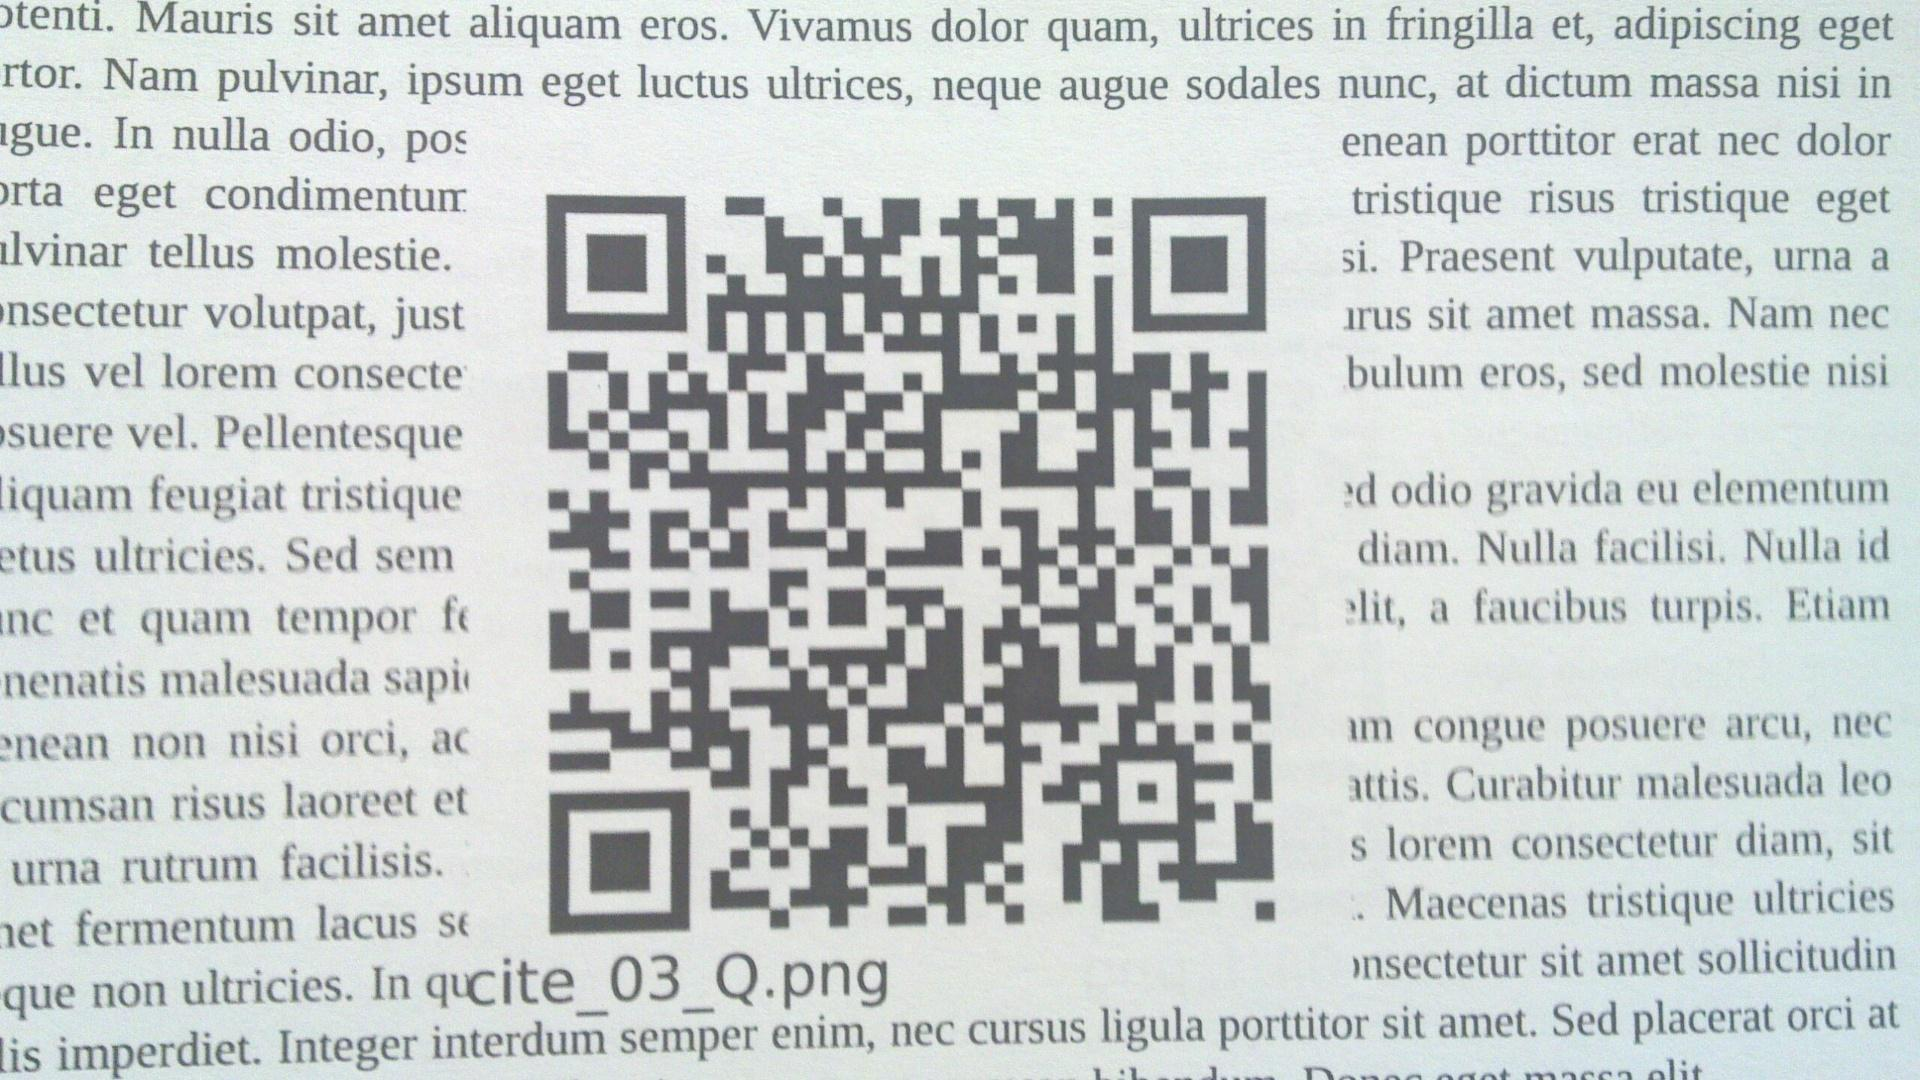qr_code: (546, 194, 1278, 938)
